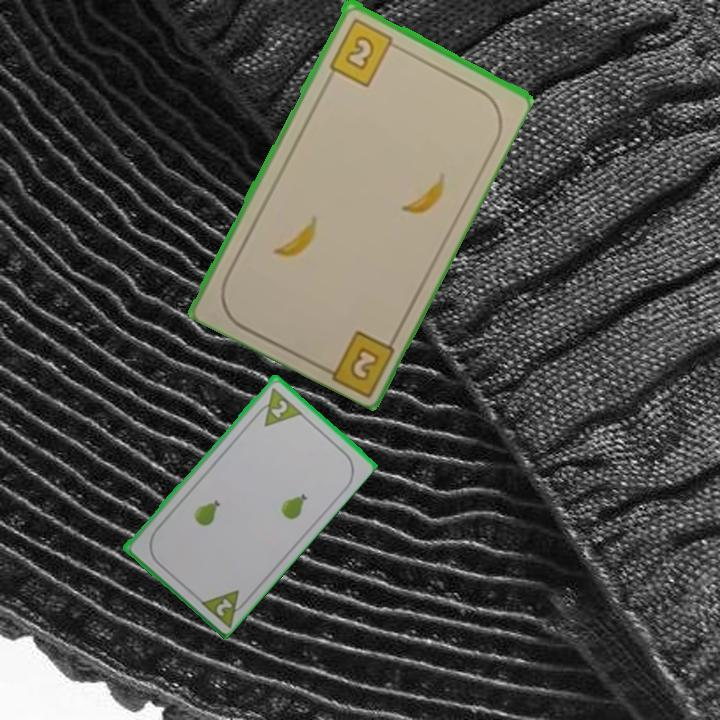2b: (325, 14, 402, 89), (346, 342, 382, 384)
2p: (195, 586, 253, 629), (251, 383, 304, 429)
